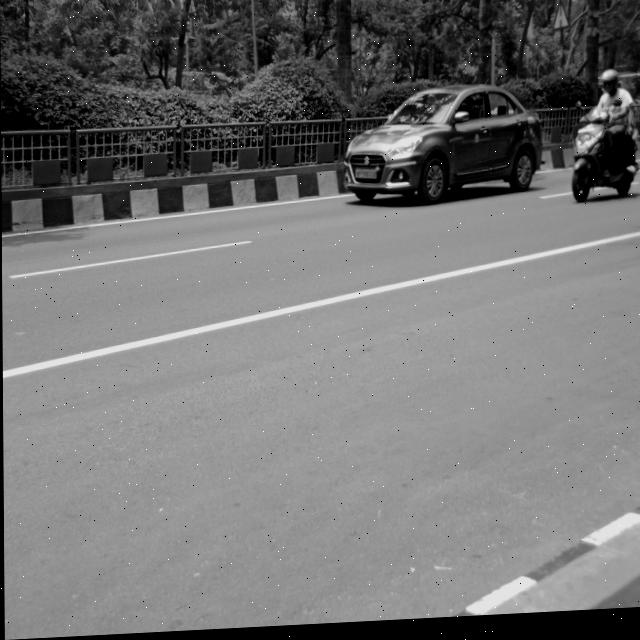bike: (563, 110, 640, 219)
car: (336, 85, 547, 230)
